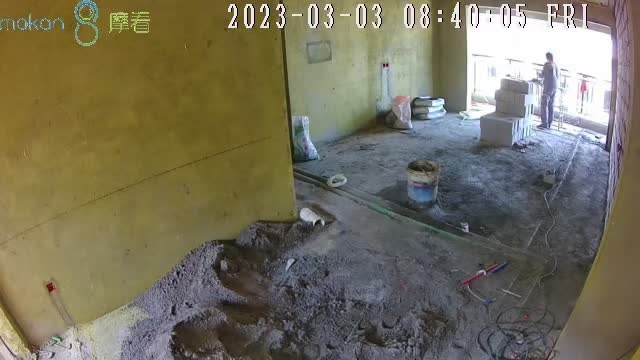people: (538, 53, 557, 131)
window: (468, 11, 612, 134)
